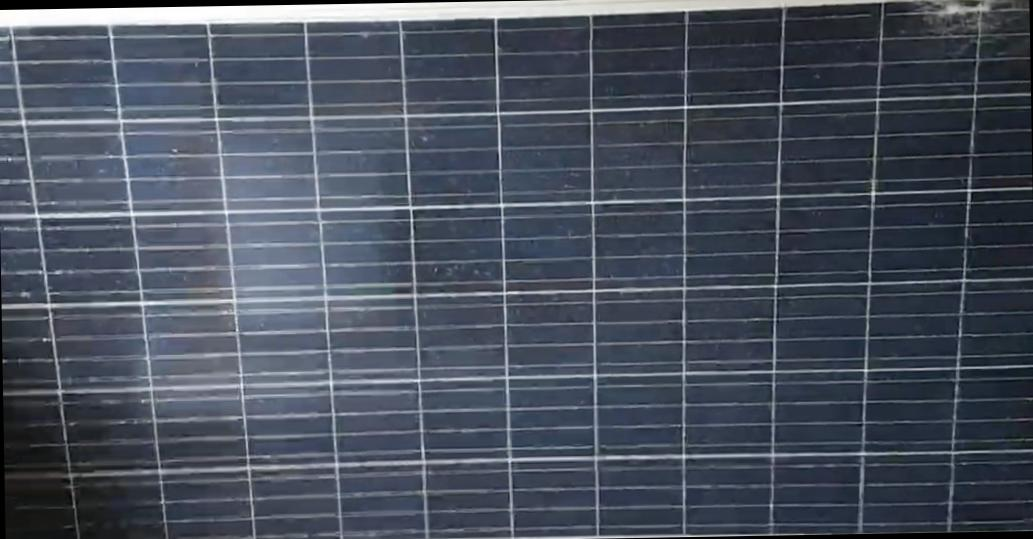Crack: (914, 0, 1022, 30)
